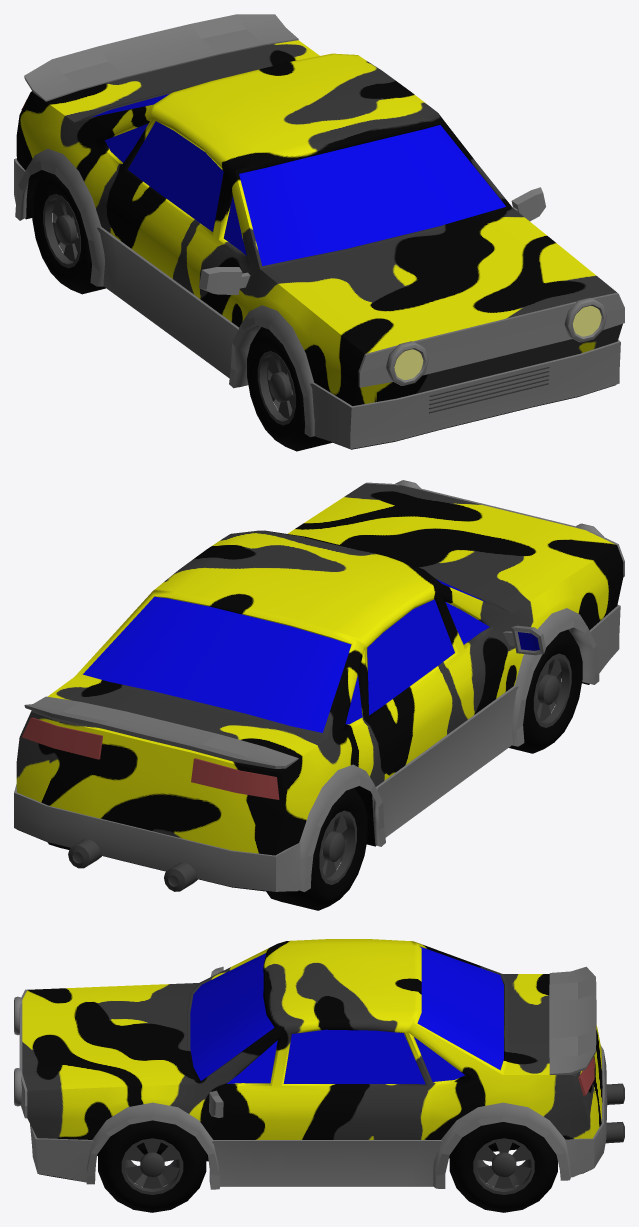
The model's file is Muscle Evolution2 Grey ArmyBlackYellow Blue DarkGrey.glb.
3 views of the same model, one above another, from view 1: azimuth 30°, elevation 25°; view 2: azimuth 150°, elevation 25°; view 3: azimuth 270°, elevation 25° (orthographic). The views are drawn at different scales.
Visible parts, largest first — view 1: evo2_body2_f1_dupl, evo2_frontGlass_f1_dupl, evo2_sill2_f1_dupl, evo2_spoiler2_f1_dupl, evo2_front_square2_f1_dupl, evo2_glasseBigR_f1_dupl, evo2_mudguardFR_f1_dupl, evo2_mudguardbR_f1_dupl, evo2_tire_rf1_f1_dupl, evo2_tire_rf_f1_dupl, evo2_rim_A_rf_f1_dupl, evo2_rim_A_rb_f1_dupl (+9 smaller); view 2: evo2_body2_f1_dupl, evo2_BackGlassGlass_f1_dupl, evo2_sill2_f1_dupl, evo2_spoiler2_f1_dupl, evo2_glasseBigR_f1_dupl, evo2_tire_rf_f1_dupl, evo2_mudguardbR_f1_dupl, evo2_mudguardFR_f1_dupl, evo2_tire_rf1_f1_dupl, evo2_rim_A_rf_f1_dupl, evo2_rim_A_rb_f1_dupl, evo2_redlightR2_f1_dupl (+5 smaller); view 3: evo2_body2_f1_dupl, evo2_sill2_f1_dupl, evo2_BackGlassGlass_f1_dupl, evo2_glasseBigL_f1_dupl, evo2_frontGlass_f1_dupl, evo2_tire_lf_f1_dupl, evo2_tire_lb_f1_dupl, evo2_spoiler2_f1_dupl, evo2_mudguardBL_f1_dupl, evo2_mudguardFL_f1_dupl, evo2_rim_A_lf_f1_dupl, evo2_rim_A_lb_f1_dupl (+4 smaller).
Boxes of the visible parts, x1,y1,x2,y2 form: evo2_body2_f1_dupl: (16,40,622,405); evo2_frontGlass_f1_dupl: (239,125,505,265); evo2_sill2_f1_dupl: (14,158,620,449); evo2_spoiler2_f1_dupl: (24,14,298,101); evo2_front_square2_f1_dupl: (358,292,624,387); evo2_glasseBigR_f1_dupl: (128,121,223,231); evo2_mudguardFR_f1_dupl: (229,305,314,437); evo2_mudguardbR_f1_dupl: (15,148,104,286); evo2_tire_rf1_f1_dupl: (247,327,331,451); evo2_tire_rf_f1_dupl: (32,171,105,294); evo2_rim_A_rf_f1_dupl: (257,351,295,425); evo2_rim_A_rb_f1_dupl: (43,194,80,268); evo2_body2_f1_dupl: (16,483,623,855); evo2_BackGlassGlass_f1_dupl: (83,596,351,732); evo2_sill2_f1_dupl: (14,605,620,891); evo2_spoiler2_f1_dupl: (24,696,298,768); evo2_glasseBigR_f1_dupl: (367,599,454,715); evo2_tire_rf_f1_dupl: (266,787,367,910); evo2_mudguardbR_f1_dupl: (299,764,385,891); evo2_mudguardFR_f1_dupl: (512,608,599,746); evo2_tire_rf1_f1_dupl: (509,629,582,753); evo2_rim_A_rf_f1_dupl: (533,653,571,727); evo2_rim_A_rb_f1_dupl: (319,810,356,884); evo2_redlightR2_f1_dupl: (191,758,279,799); evo2_body2_f1_dupl: (22,939,602,1159); evo2_sill2_f1_dupl: (30,1045,607,1186); evo2_BackGlassGlass_f1_dupl: (417,946,503,1070); evo2_glasseBigL_f1_dupl: (283,1029,425,1084); evo2_frontGlass_f1_dupl: (190,953,274,1080); evo2_tire_lf_f1_dupl: (98,1120,206,1212); evo2_tire_lb_f1_dupl: (449,1122,557,1212); evo2_spoiler2_f1_dupl: (549,966,596,1074); evo2_mudguardBL_f1_dupl: (433,1102,570,1188); evo2_mudguardFL_f1_dupl: (86,1102,220,1189); evo2_rim_A_lf_f1_dupl: (121,1138,183,1194); evo2_rim_A_lb_f1_dupl: (473,1138,534,1194).
Bounding box in the file's own units: 177 × 112 × 331.
7 materials, 1 textured.
